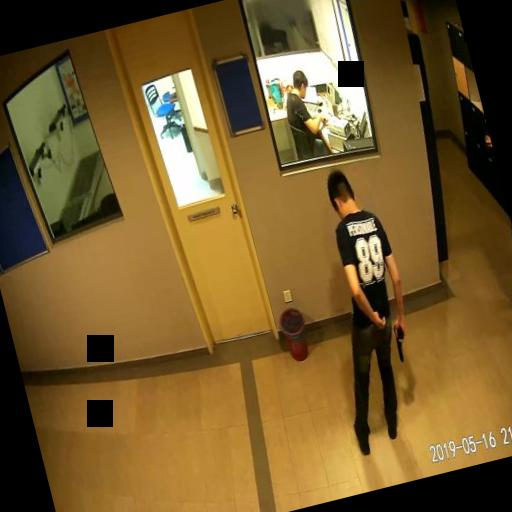Handgun: (390, 322, 410, 360)
